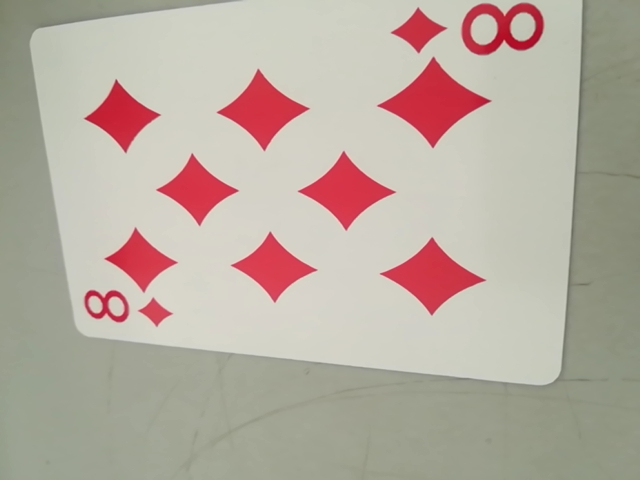fk 8: (394, 0, 547, 65), (77, 284, 173, 335)
